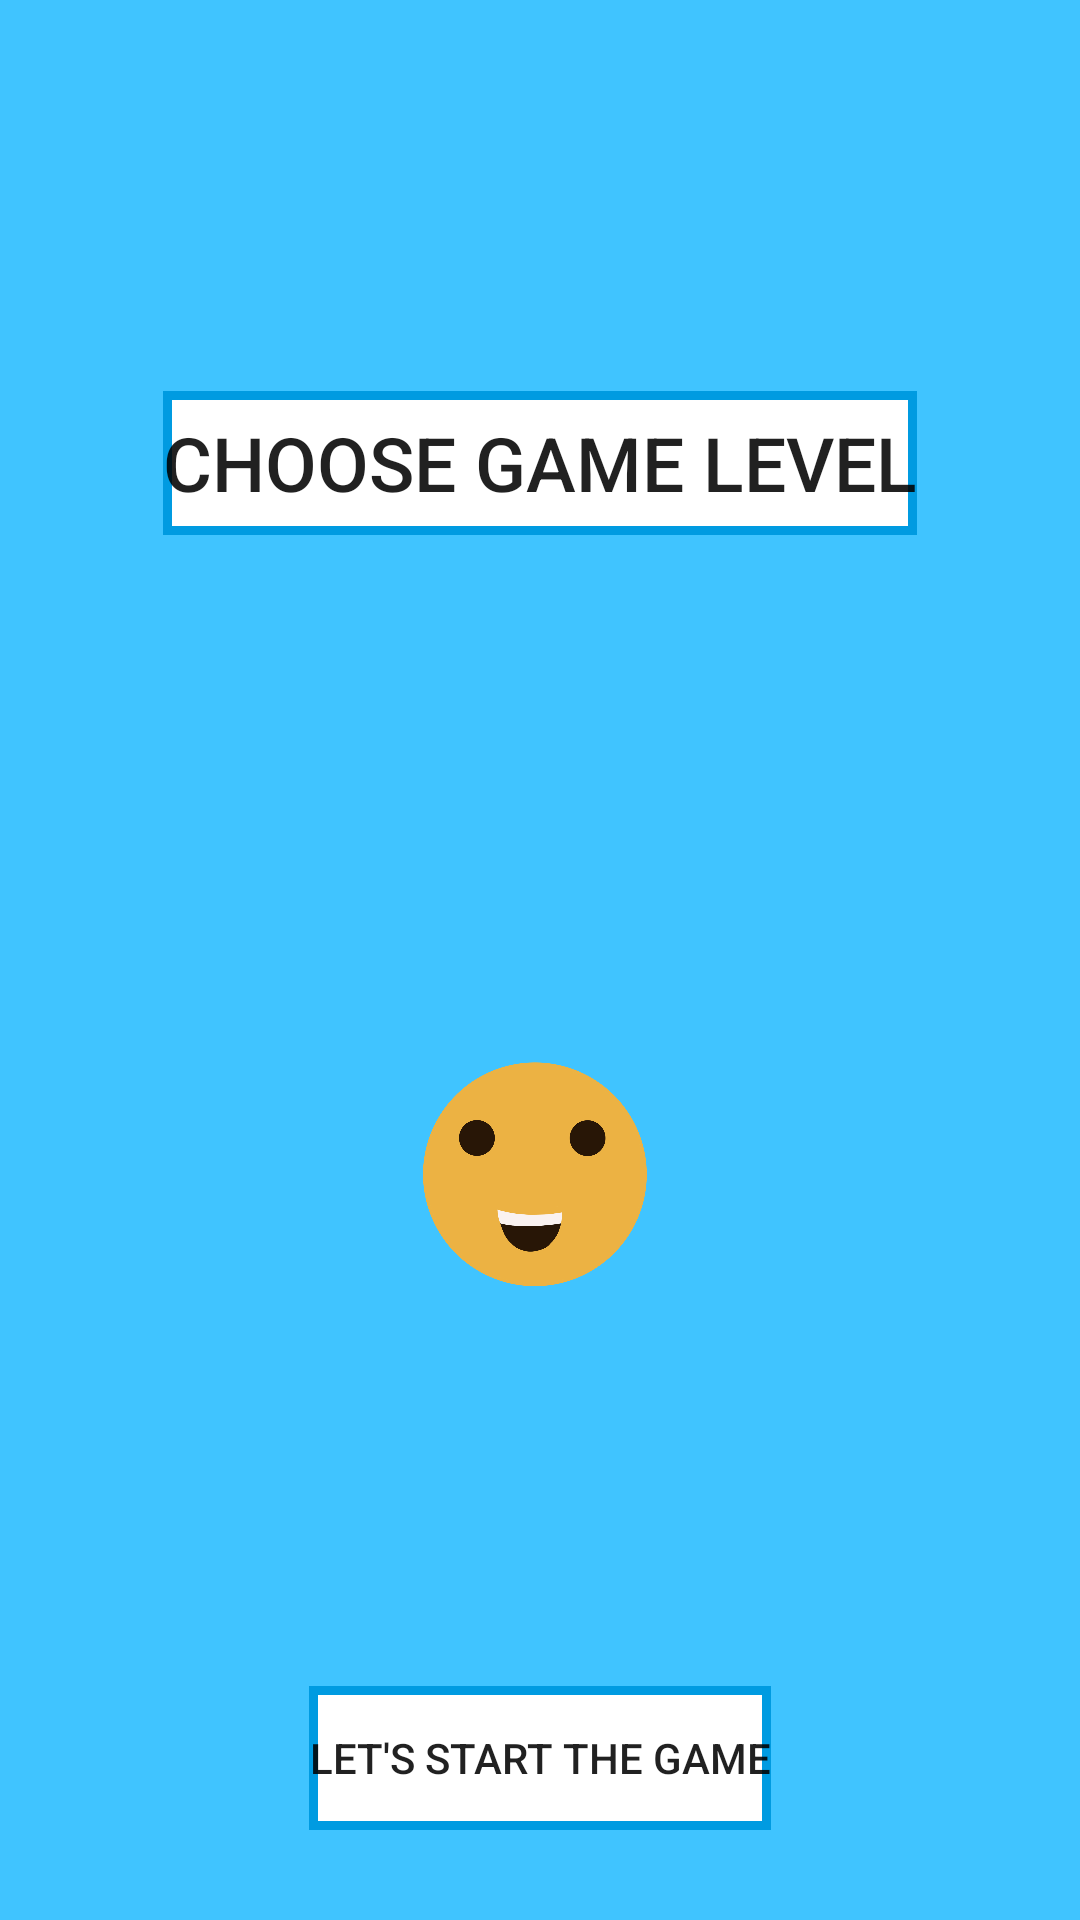

Screen size 1080x1920. Icon name, then its center in pixels as point (x, y):
easy emoji animation: point (535, 1174)
